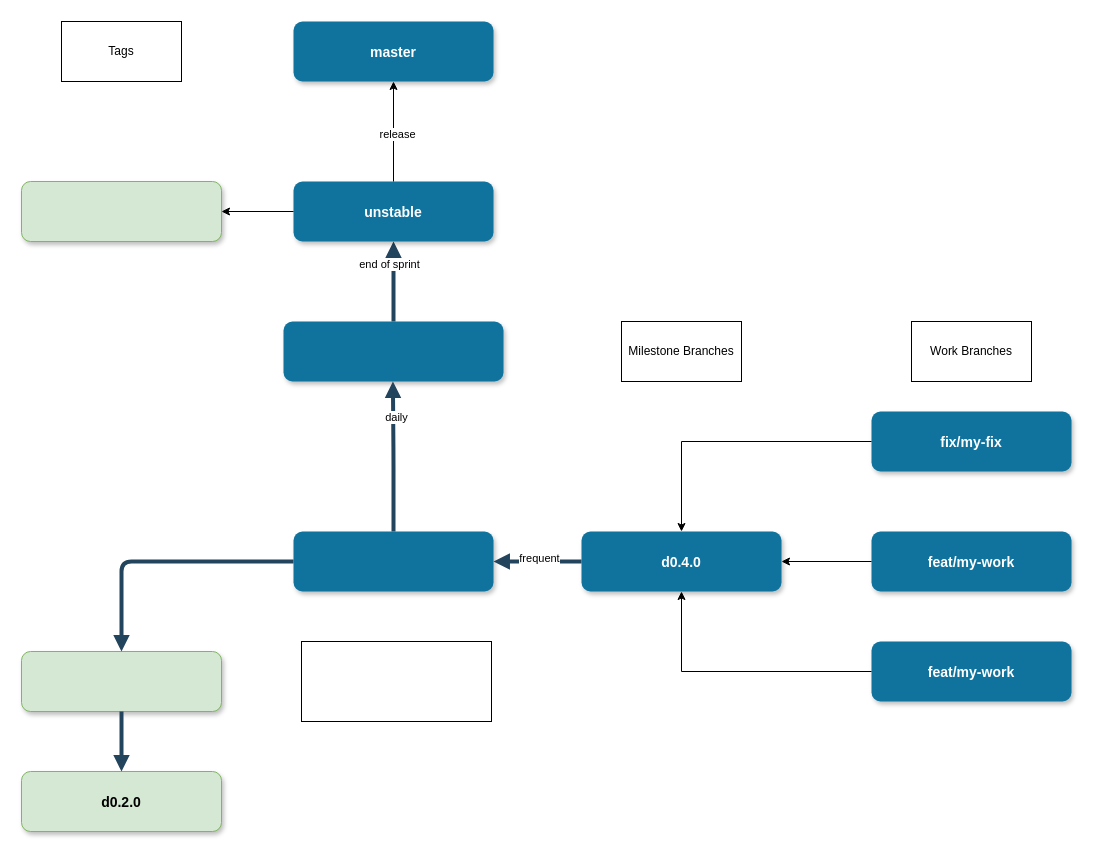
Image size: 1095x856. Some labels were removed from this diagram. Here are the shapes that lost their labels. From the top down, the centre of each, then its label:
At [122,212]: "r0.3.0".
At [394,352]: "nightly".
At [394,562]: "dev".
At [122,682]: "d0.3.0".
At [396,681]: "Protected Branches".
